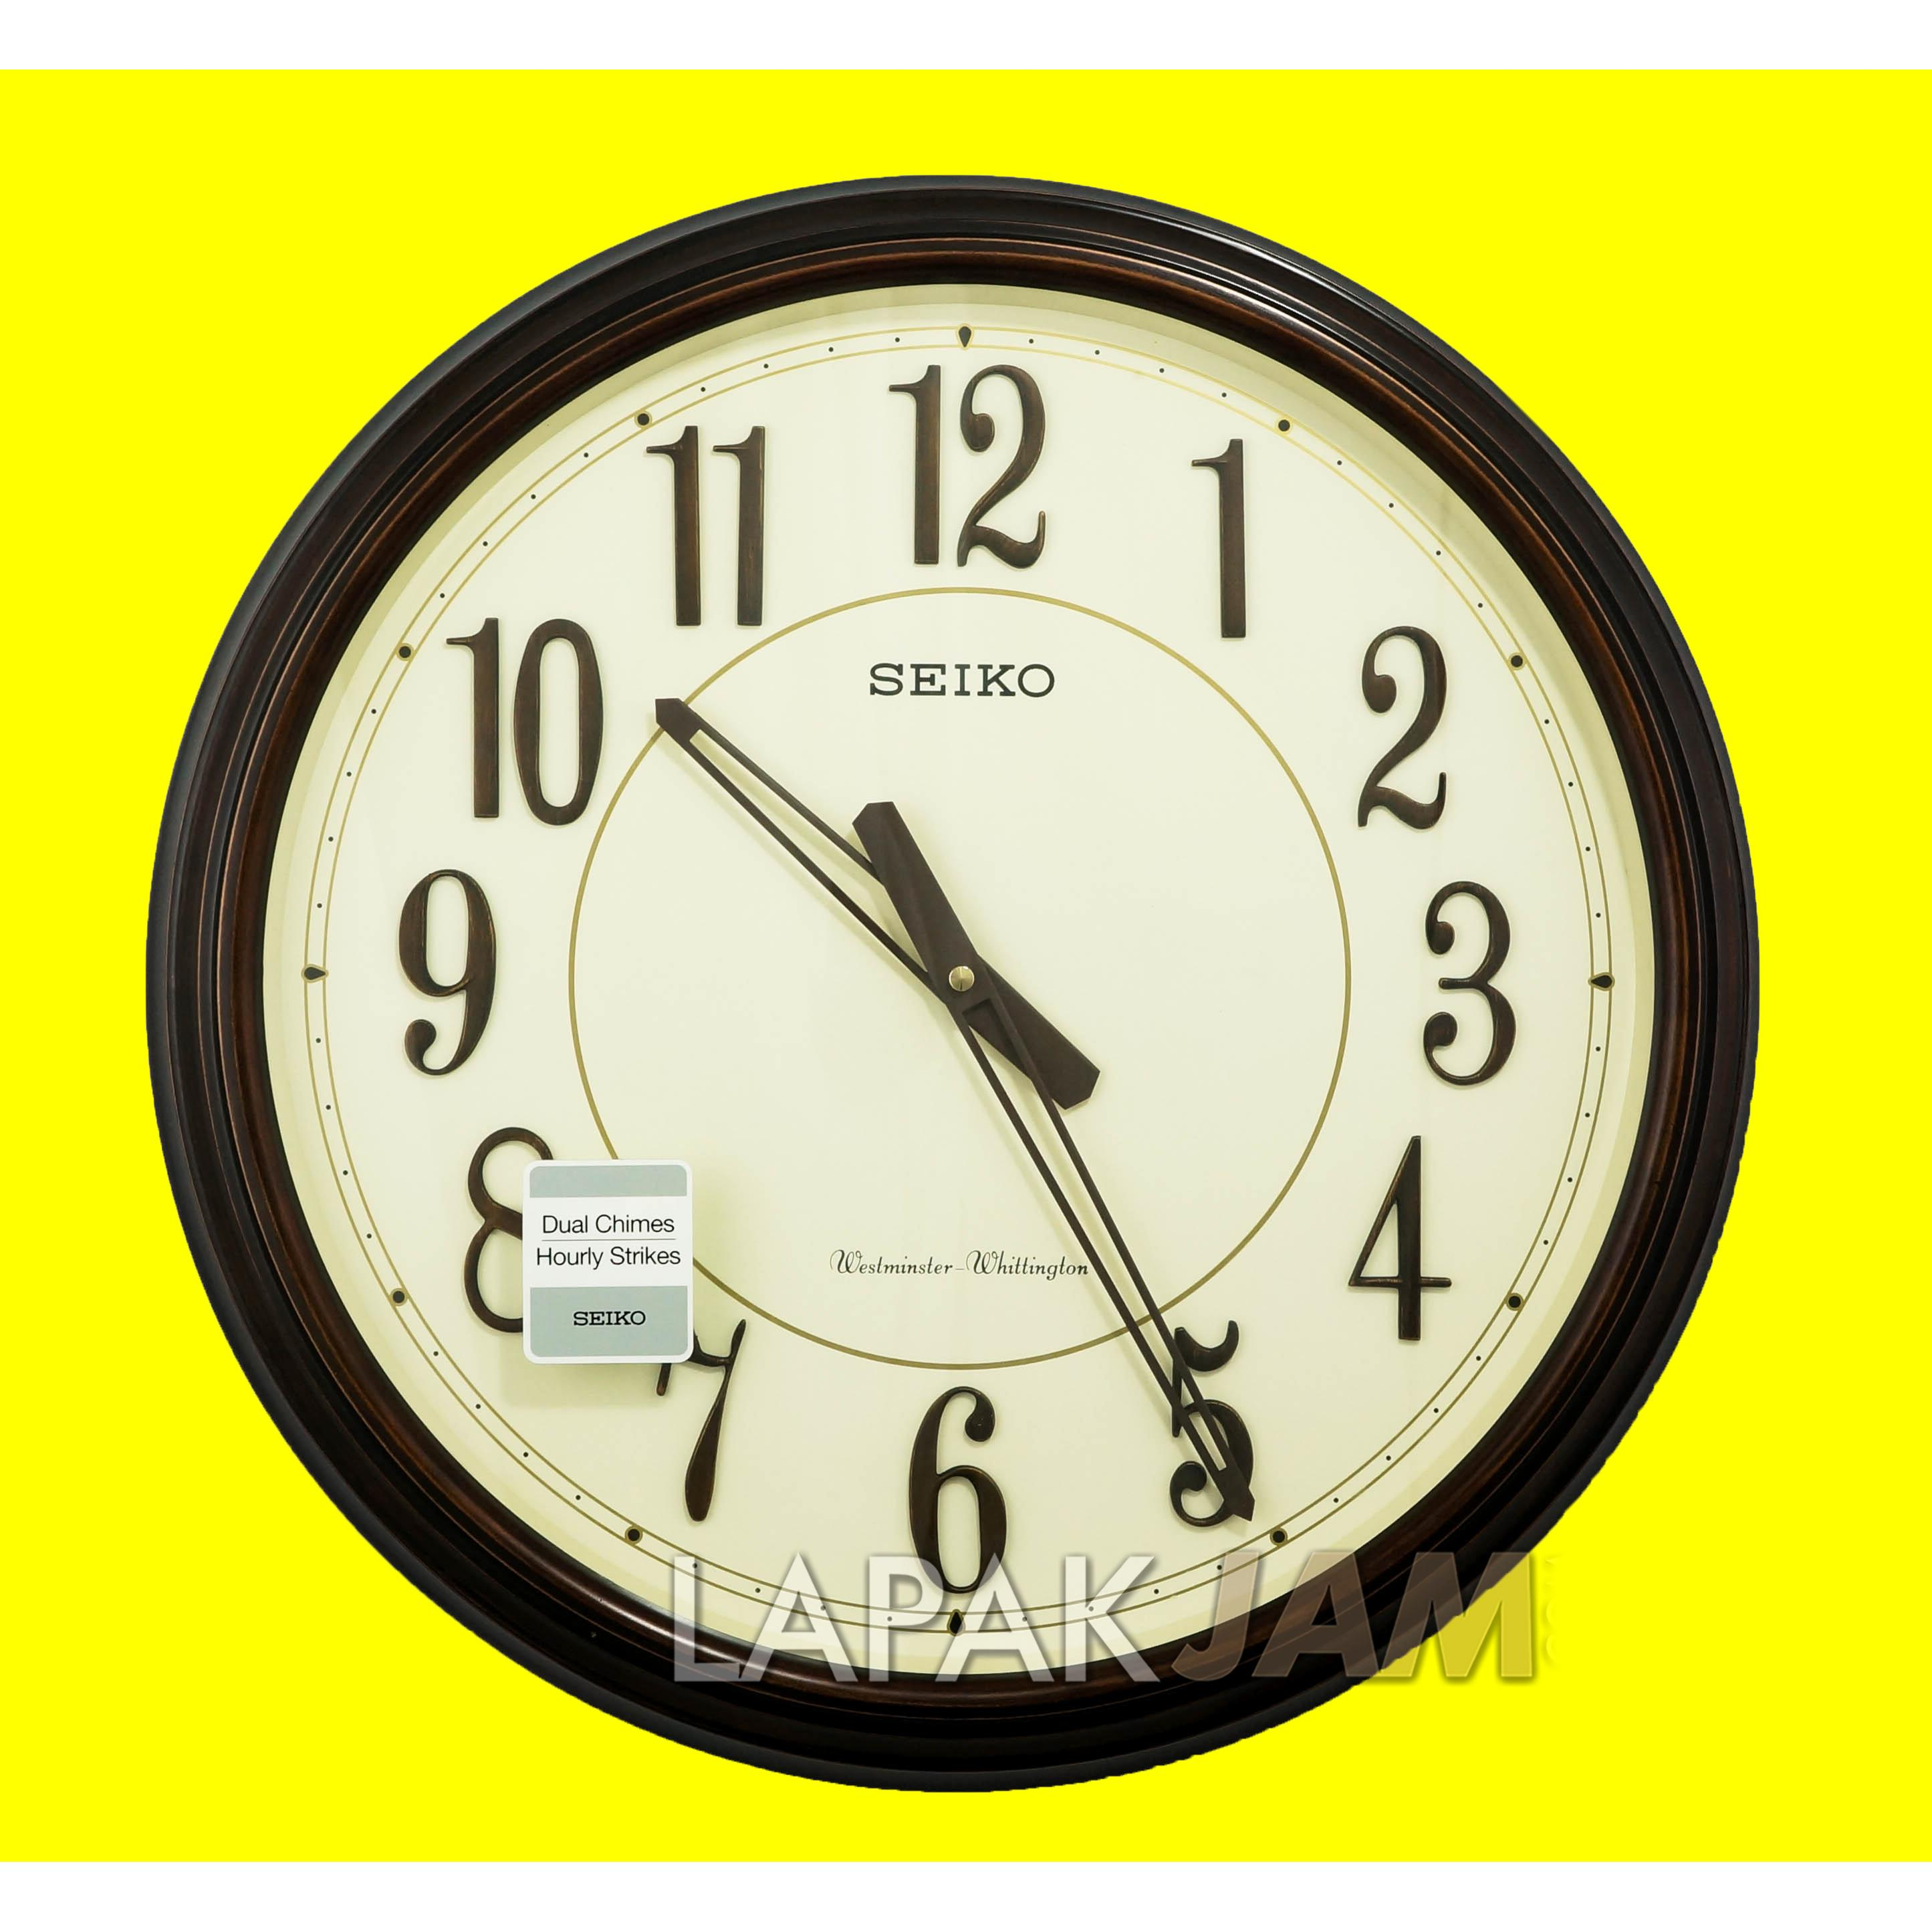jam dinding: (189, 186, 1720, 1753)
